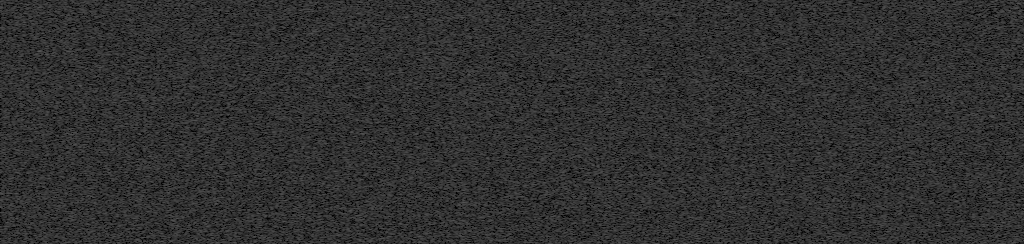wv_am: (926, 0, 931, 243), (940, 0, 945, 243)
wv_cw: (968, 0, 974, 243), (968, 0, 973, 243)
wv_lsb: (969, 3, 974, 243), (963, 3, 969, 72), (963, 126, 968, 194), (963, 99, 968, 120), (963, 73, 968, 91), (964, 197, 967, 202), (964, 211, 967, 214)
